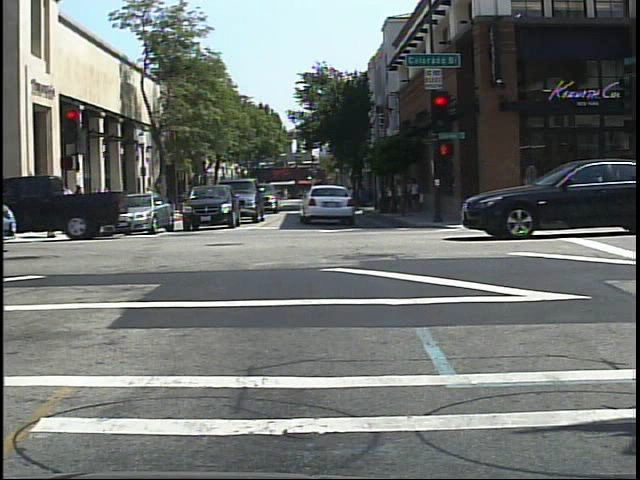person: (150, 180, 168, 218), (141, 184, 160, 216), (91, 188, 105, 228)
